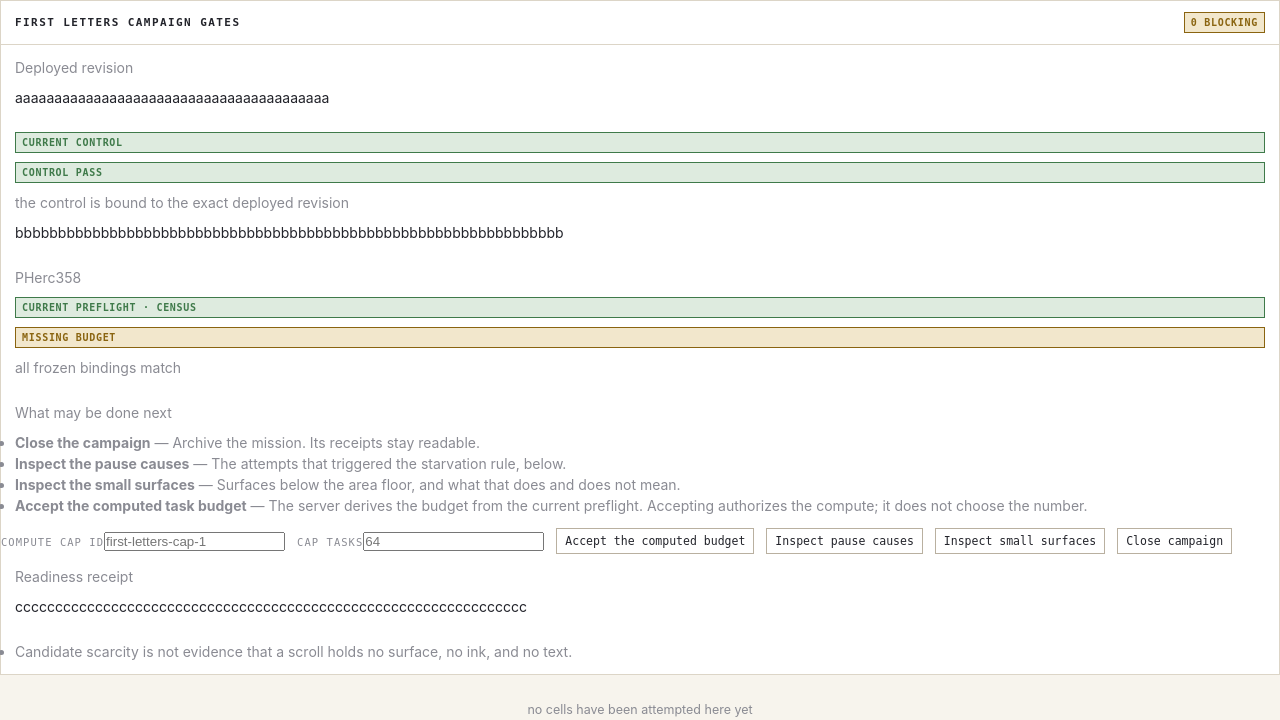
it: First Letters campaign gates › shows the pause causes and the small surfaces only when asked
Expected: the heading "First Letters campaign gates" is shown, x1=15 y1=15 x2=240 y2=32
Expected: the text "scientific-terminal" is not shown
Click the button "Inspect pause causes".
click(845, 541)  # box x1=766 y1=528 x2=923 y2=554
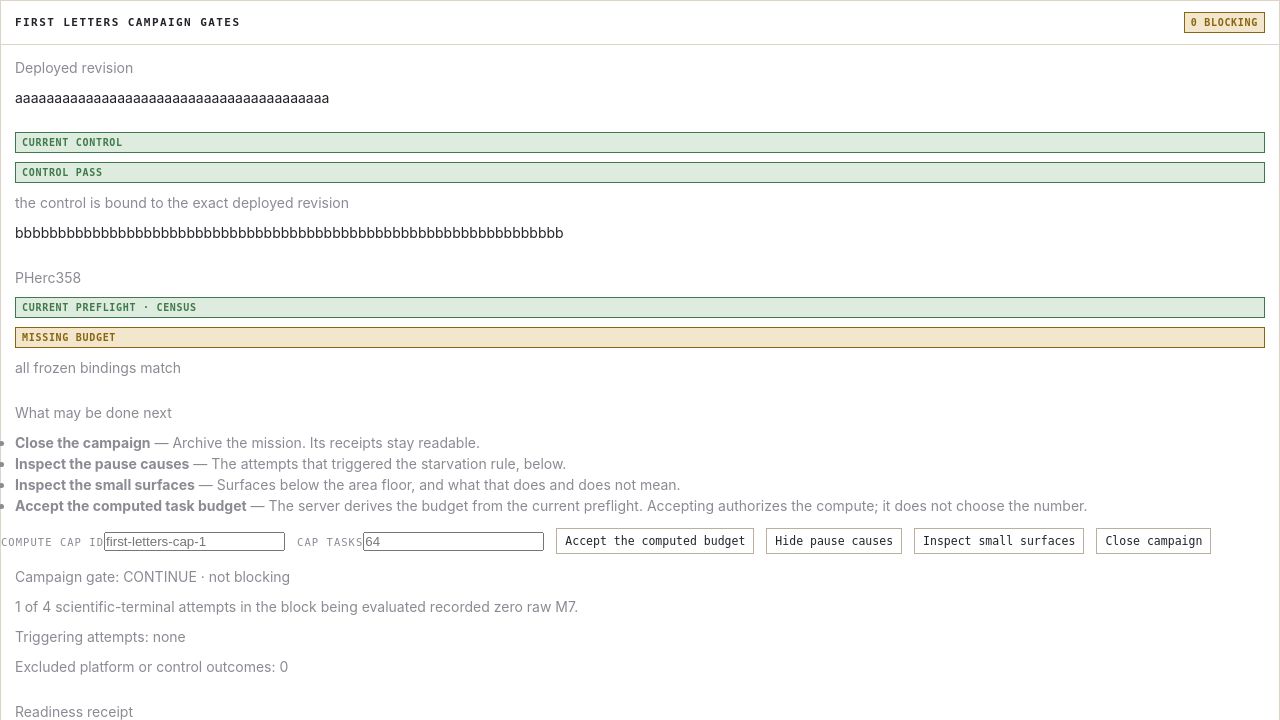
Now the text "scientific-terminal" is shown, box x1=51 y1=598 x2=578 y2=615
Click the button "Inspect small surfaces".
click(999, 541)  # box x1=914 y1=528 x2=1084 y2=554
(page scrolled)
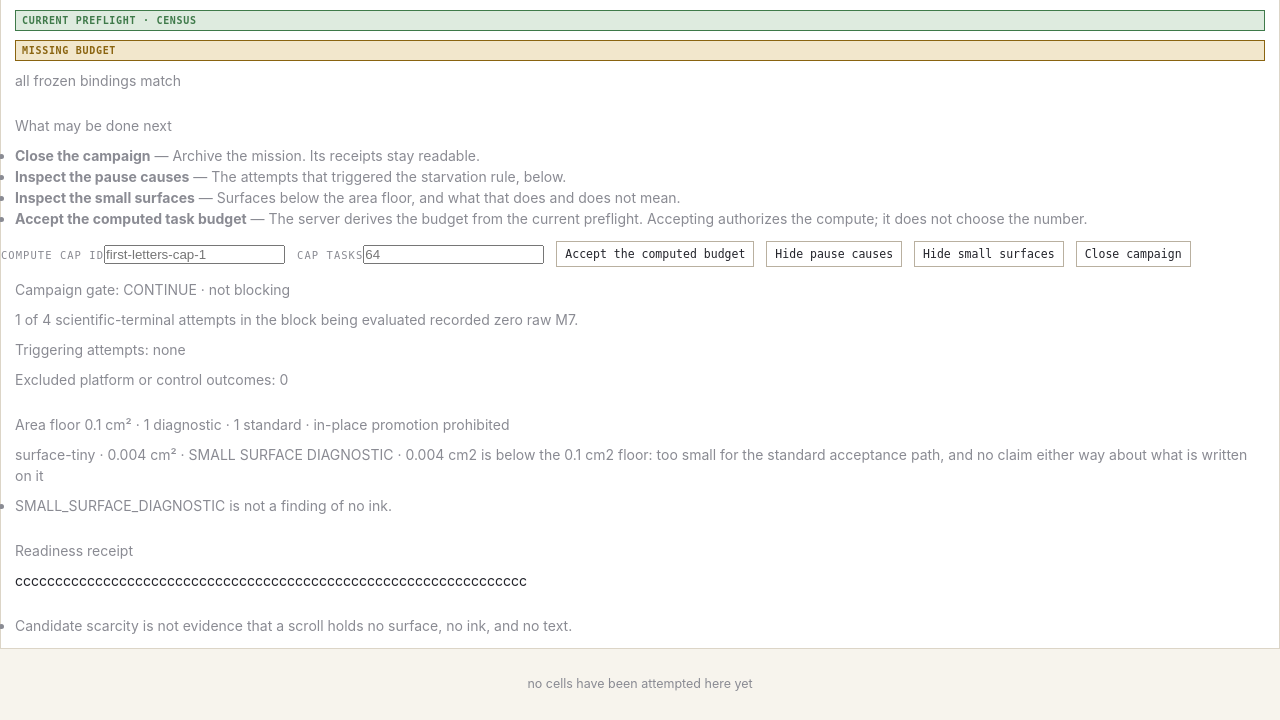
Now the text "Area floor 0.1 cm" is shown, box x1=15 y1=416 x2=510 y2=433
Now the text "no claim either way about what is written on it" is shown, box x1=15 y1=446 x2=1247 y2=484
Now the list item "SMALL_SURFACE_DIAGNOSTIC is not a finding of no ink." is shown, box x1=15 y1=497 x2=392 y2=514
